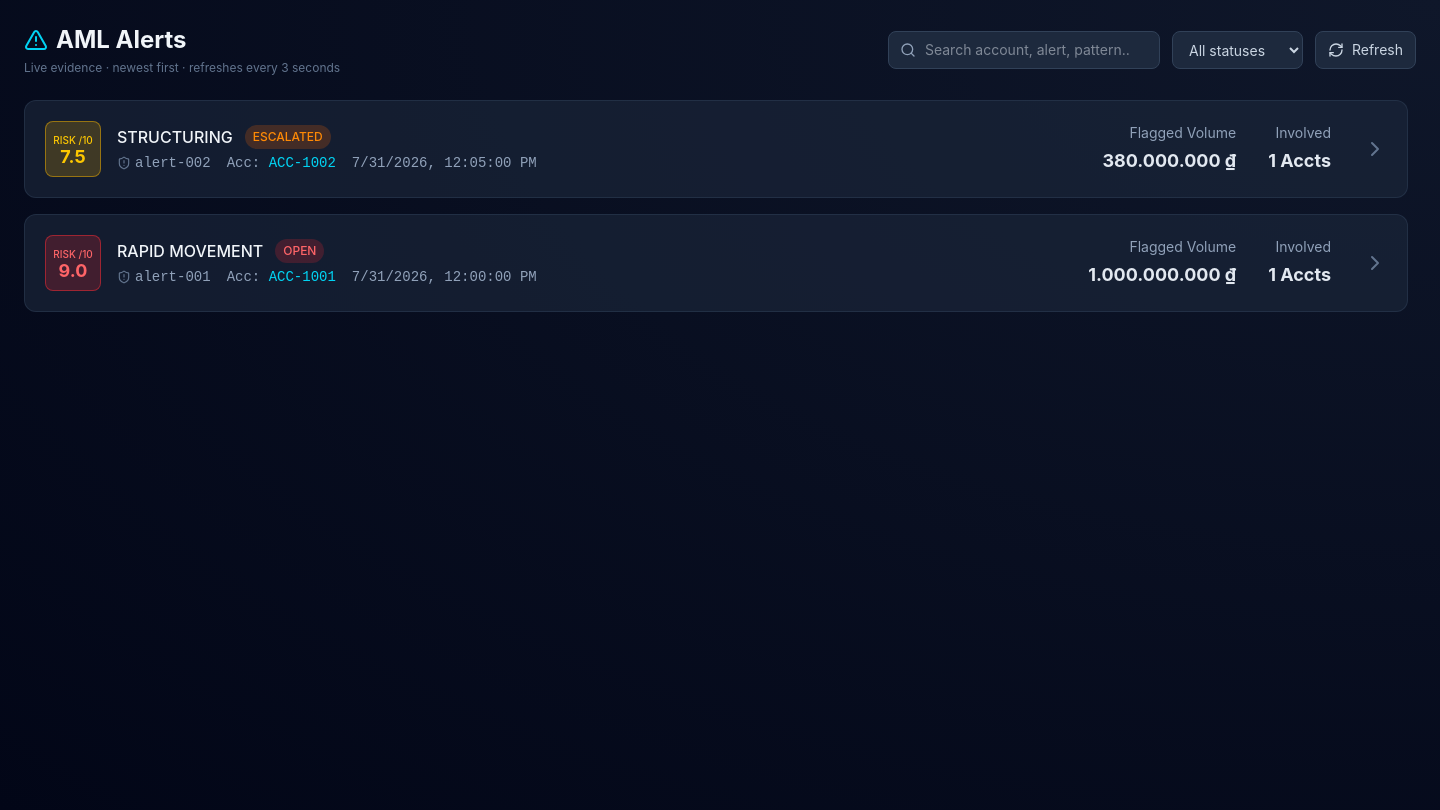
Test case: AmlAlertsDashboard Component › renders Freeze/Unfreeze button in expanded alert card according to accountStatus
Click the text "alert-001": {"x": 164, "y": 277} [117,267,211,287]
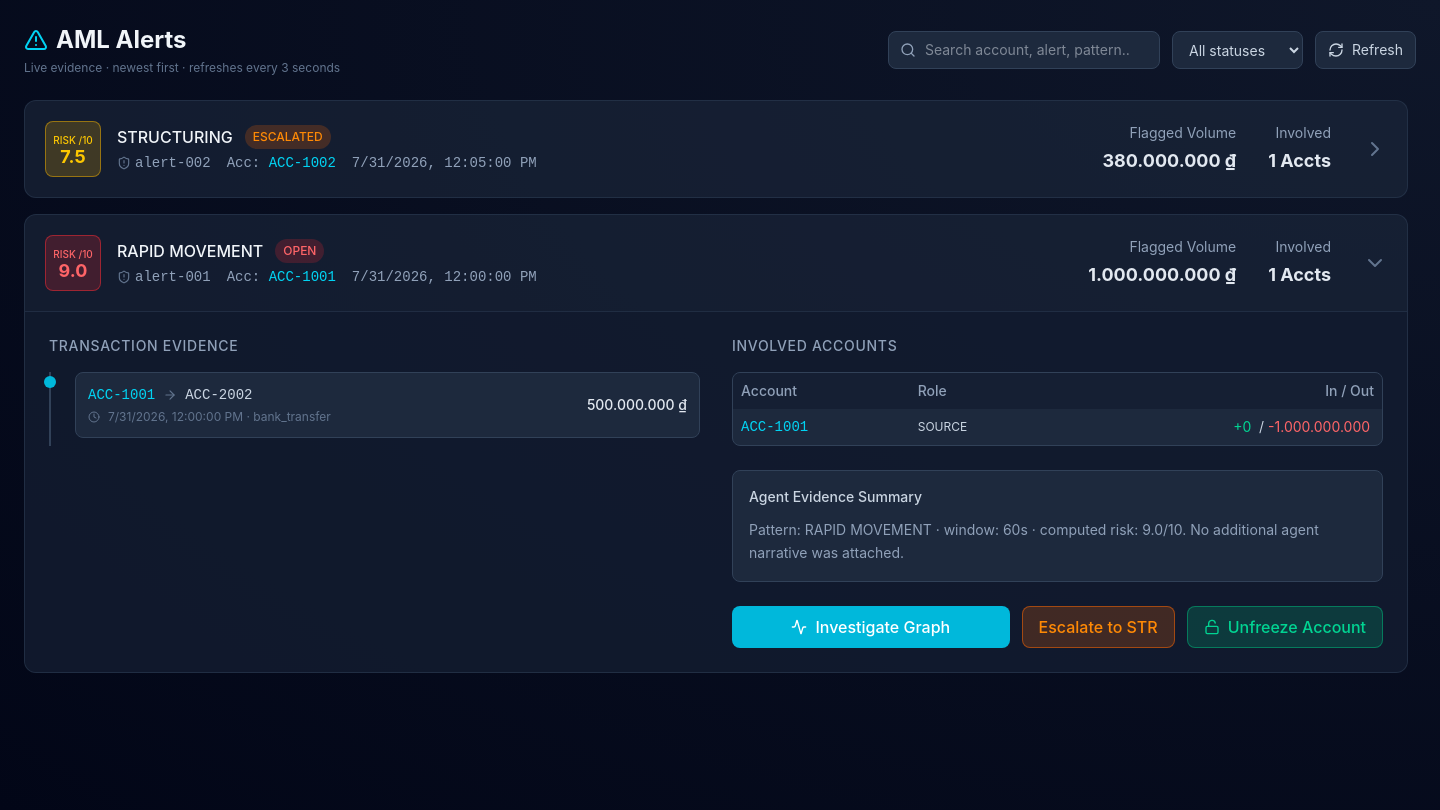
Check: the button "Unfreeze Account" is shown, box [1187,606,1383,648]
